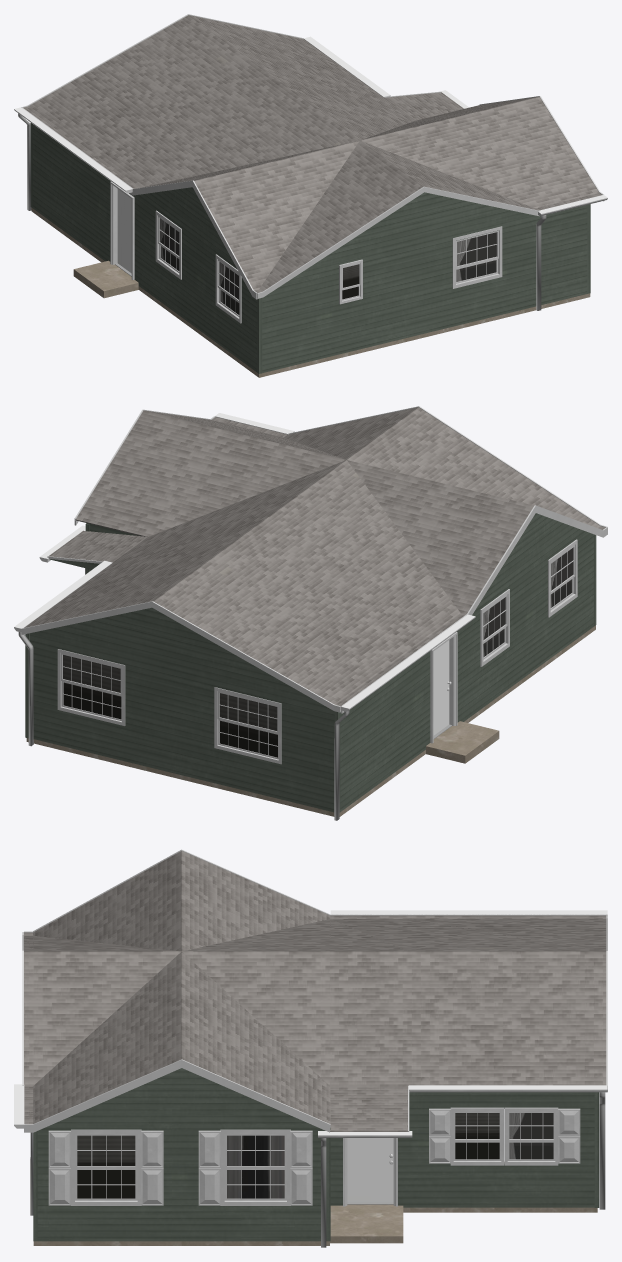
The model's file is home-4.glb.
3 renders of one model, top to bottom at view 1: azimuth 30°, elevation 25°; view 2: azimuth 150°, elevation 25°; view 3: azimuth 270°, elevation 25°, orthographic. The views are drawn at different scales.
Visible parts, largest first — view 1: Home4_col_V1; view 2: Home4_col_V1; view 3: Home4_col_V1.
Part boxes in pixels (x1,y1,x2,y2): Home4_col_V1: (14,14,607,377); Home4_col_V1: (14,406,607,820); Home4_col_V1: (14,849,607,1247).
Size of the model in its own units: 9.95 by 3.92 by 10.97.
1 material, 1 textured.
